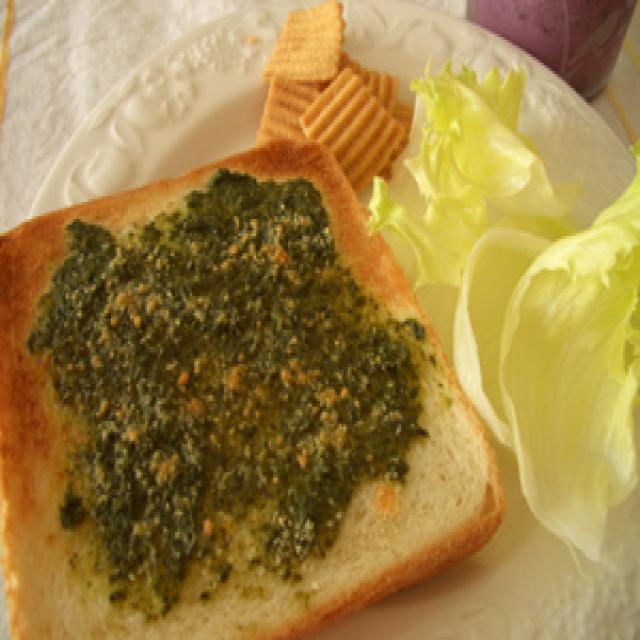面包点心: (0, 162, 489, 640)
